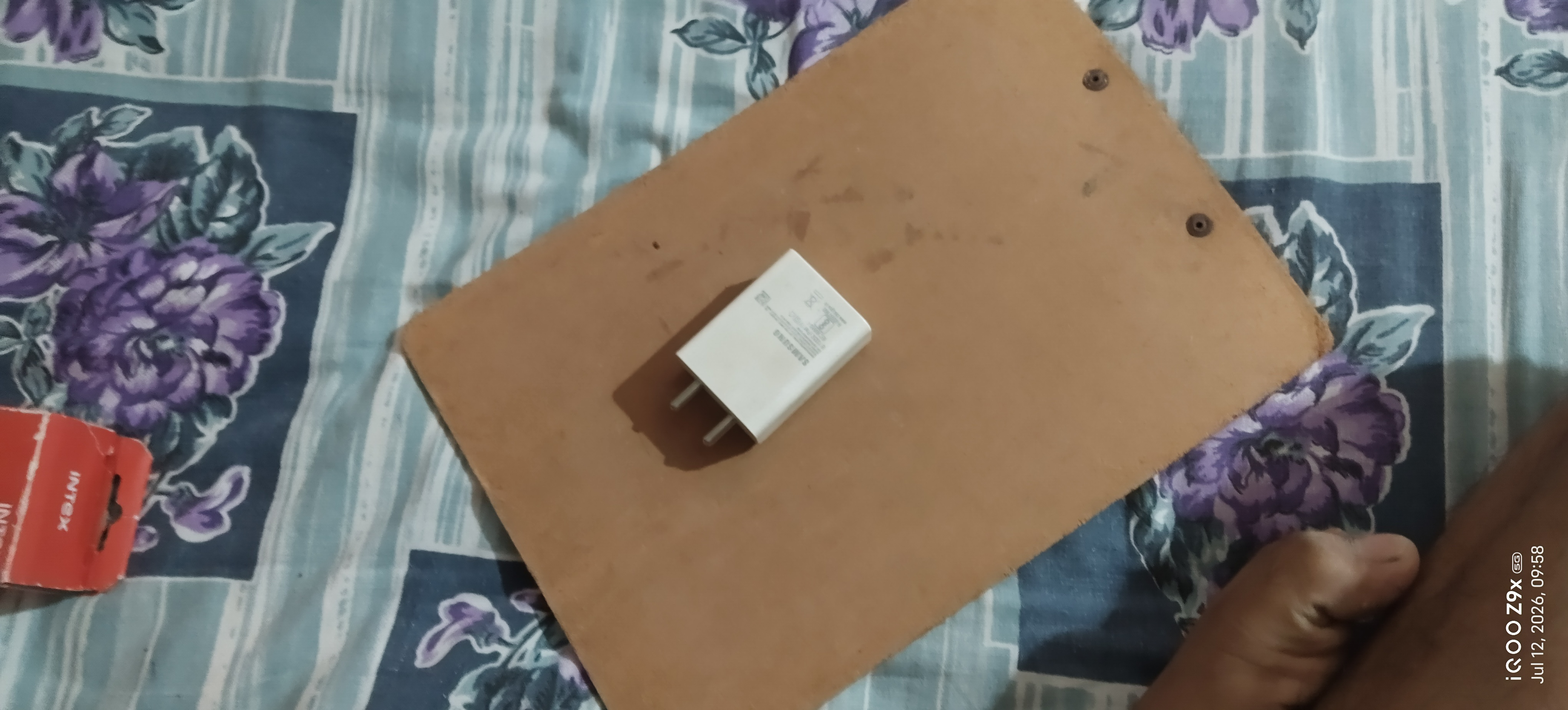charger: (651, 238, 894, 467)
